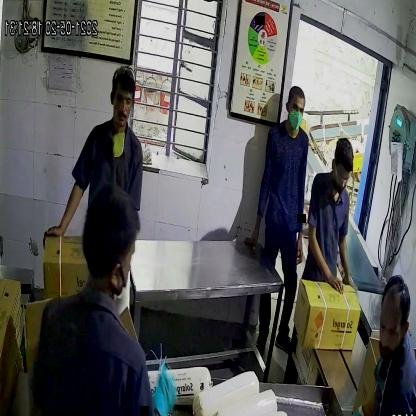goggles: (333, 170, 352, 186)
no_goggles: (376, 316, 410, 343), (112, 90, 137, 108), (287, 102, 308, 116)
